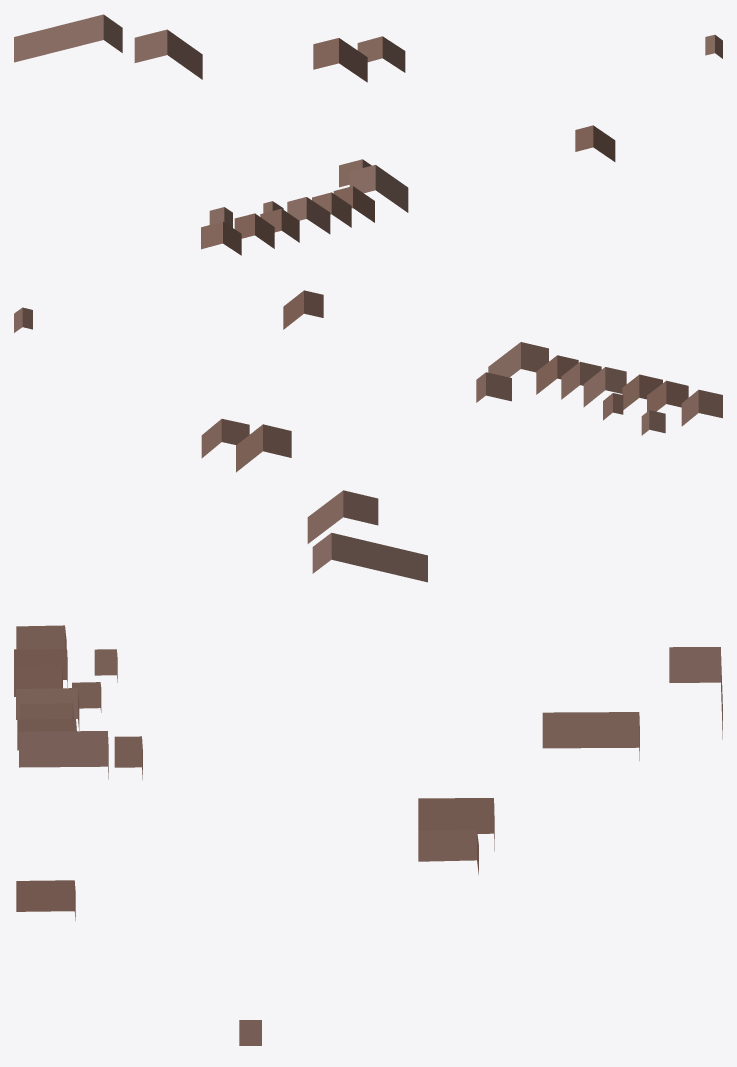
File: c_1633_17821_buildings_residential.glb
The picture shows the model from 3 angles, top to bottom: view 1: azimuth 30°, elevation 25°; view 2: azimuth 150°, elevation 25°; view 3: azimuth 270°, elevation 25°; orthographic projection. The views are drawn at different scales.
Visible parts, largest first — view 1: geometry_0; view 2: geometry_0; view 3: geometry_0.
Part boxes in pixels (box(x1,y1,x2,y2)): geometry_0: box(14, 14, 722, 255); geometry_0: box(14, 290, 722, 582); geometry_0: box(14, 625, 722, 1045).
Size of the model in its own units: 263 by 12.98 by 197.
